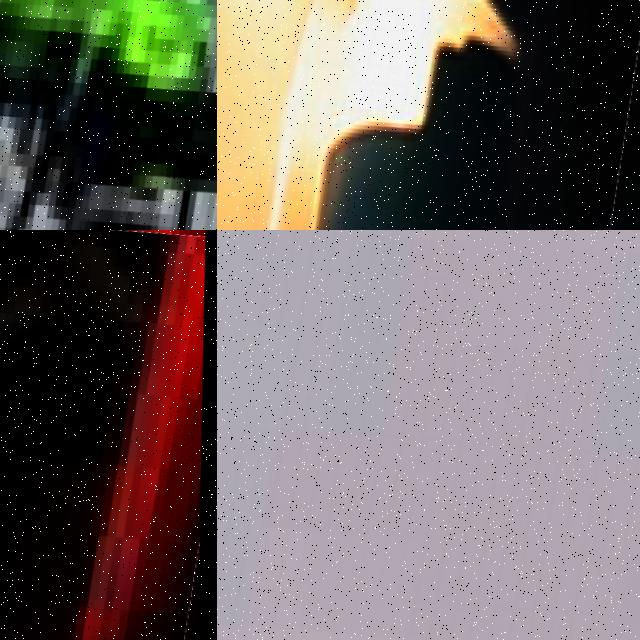drone: (217, 230, 640, 640), (217, 0, 640, 230), (0, 230, 217, 640), (0, 0, 217, 230)
